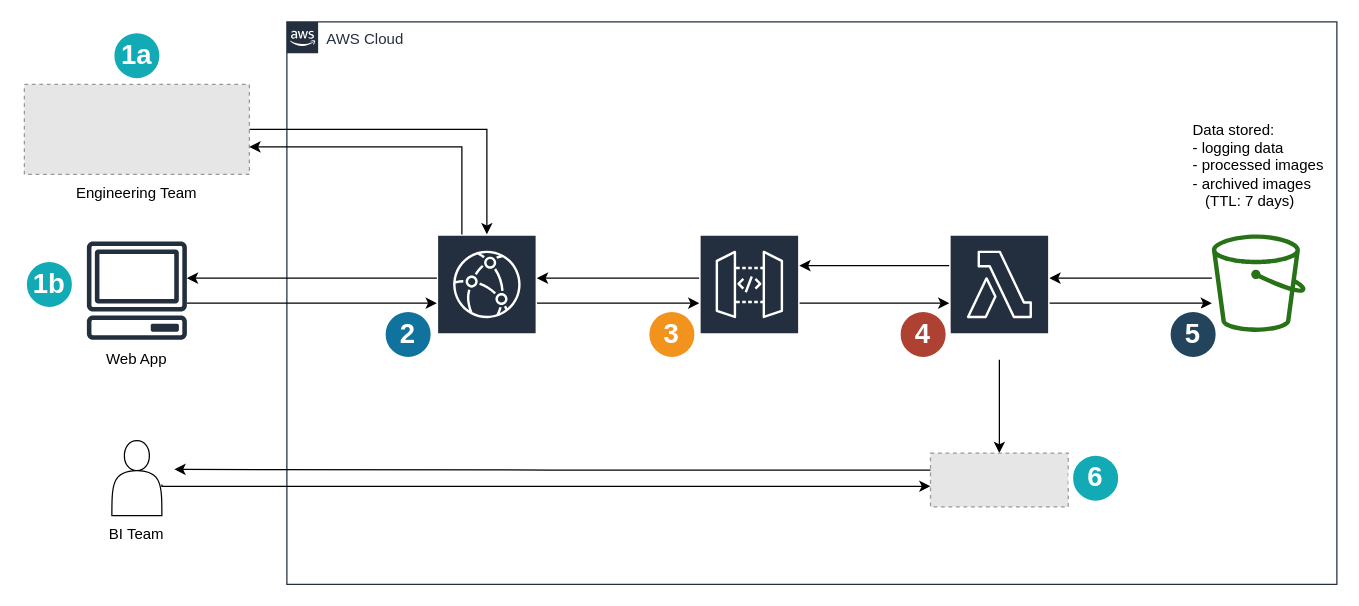
Image size: 1359x606. Some labels were removed from this diagram. Grey dashed boxes stand in for pictures. Each missing label, with the centre of its shape:
"Amazon API Gateway" goes at pixel 748 302.
"Amazon Cloudfront" goes at pixel 486 302.
"Amazon S3 Bucket" goes at pixel 1258 282.
"AWS Lambda" goes at pixel 998 296.
